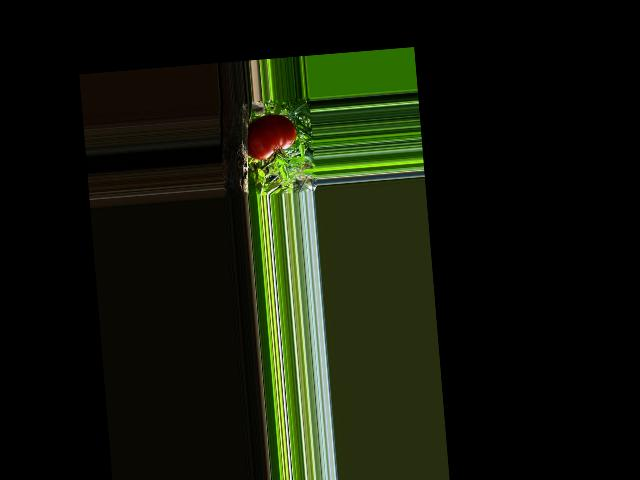tomato: (244, 113, 298, 161)
